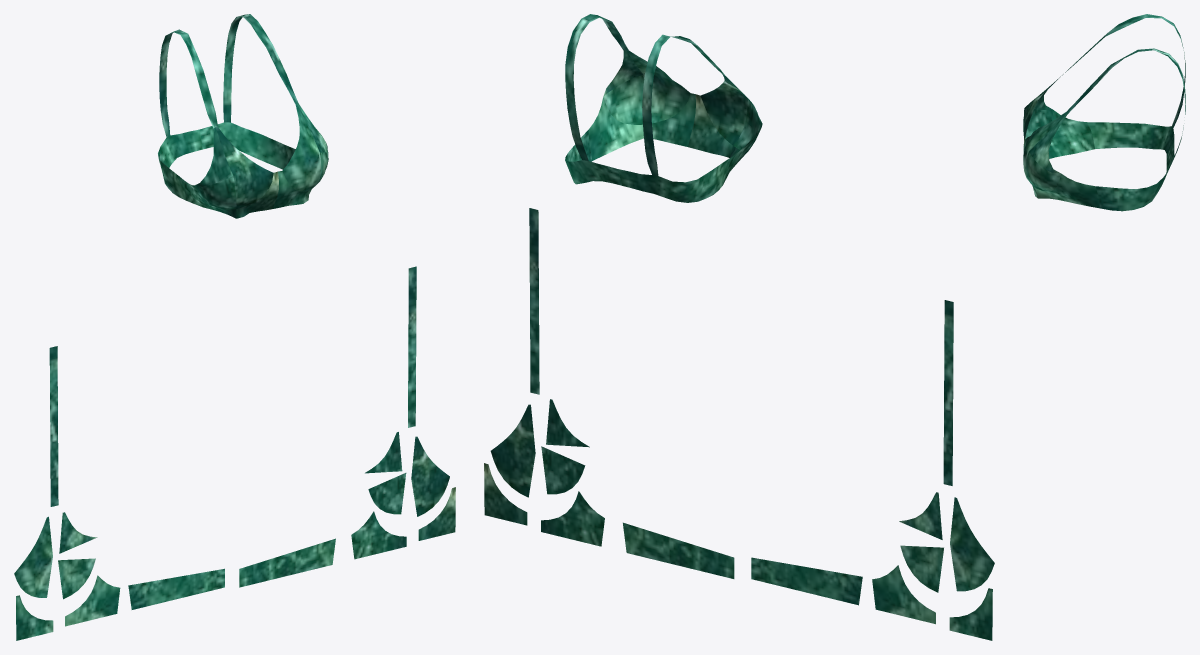
The model's file is brassier02LosDos.obj.
3 views of the same model, side by side, from view 1: azimuth 30°, elevation 25°; view 2: azimuth 150°, elevation 25°; view 3: azimuth 270°, elevation 25° (orthographic). The views are drawn at different scales.
Visible parts, largest first — view 1: Pattern2D_212454, Pattern2D_212309, Pattern2D_212309.001, Pattern2D_212453.001, Pattern2D_183690.001, Pattern2D_212453, Pattern2D_183690, Pattern2D_212455.001, Pattern2D_212448.001, Pattern2D_212454.001, Pattern2D_212451, Pattern2D_61598 (+12 smaller); view 2: Pattern2D_212454, Pattern2D_212309, Pattern2D_212453, Pattern2D_183690, Pattern2D_212454.001, Pattern2D_212453.001, Pattern2D_61598, Pattern2D_212451, Pattern2D_212455, Pattern2D_212448, Pattern2D_61598.001, Pattern2D_183690.001 (+12 smaller); view 3: Pattern2D_212454.001, Pattern2D_212309.001, Pattern2D_212451.001, Pattern2D_61598.001, Pattern2D_41568.001, Pattern2D_15169.001, Pattern2D_212448.001, Pattern2D_212455.001, Pattern2D_183690.001, Pattern2D_212450.001, Pattern2D_212453.001.
Boxes of the visible parts, left/top/right/bottom form: Pattern2D_212454: left=239, top=538, right=335, bottom=587; Pattern2D_212309: left=128, top=568, right=224, bottom=609; Pattern2D_212309.001: left=199, top=122, right=295, bottom=169; Pattern2D_212453.001: left=215, top=127, right=273, bottom=209; Pattern2D_183690.001: left=282, top=103, right=320, bottom=191; Pattern2D_212453: left=411, top=436, right=449, bottom=516; Pattern2D_183690: left=14, top=516, right=52, bottom=597; Pattern2D_212455.001: left=223, top=14, right=298, bottom=122; Pattern2D_212448.001: left=159, top=29, right=217, bottom=137; Pattern2D_212454.001: left=158, top=129, right=202, bottom=200; Pattern2D_212451: left=351, top=511, right=406, bottom=559; Pattern2D_61598: left=65, top=575, right=120, bottom=626; Pattern2D_212454: left=623, top=522, right=734, bottom=578; Pattern2D_212309: left=751, top=557, right=862, bottom=605; Pattern2D_212453: left=490, top=404, right=535, bottom=497; Pattern2D_183690: left=950, top=497, right=994, bottom=591; Pattern2D_212454.001: left=617, top=156, right=732, bottom=202; Pattern2D_212453.001: left=700, top=74, right=747, bottom=145; Pattern2D_61598: left=872, top=565, right=935, bottom=624; Pattern2D_212451: left=541, top=491, right=604, bottom=546; Pattern2D_212455: left=943, top=300, right=953, bottom=485; Pattern2D_212448: left=529, top=208, right=539, bottom=394; Pattern2D_61598.001: left=588, top=97, right=643, bottom=160; Pattern2D_183690.001: left=626, top=50, right=690, bottom=123; Pattern2D_212454.001: left=1088, top=122, right=1174, bottom=161; Pattern2D_212309.001: left=1095, top=145, right=1174, bottom=211; Pattern2D_212451.001: left=1048, top=110, right=1094, bottom=158; Pattern2D_61598.001: left=1036, top=173, right=1099, bottom=208; Pattern2D_41568.001: left=1026, top=152, right=1060, bottom=191; Pattern2D_15169.001: left=1028, top=113, right=1067, bottom=173; Pattern2D_212448.001: left=1065, top=14, right=1185, bottom=127; Pattern2D_212455.001: left=1066, top=48, right=1185, bottom=159; Pattern2D_183690.001: left=1023, top=112, right=1067, bottom=181; Pattern2D_212450.001: left=1025, top=109, right=1053, bottom=138; Pattern2D_212453.001: left=1023, top=74, right=1063, bottom=140.
Bounding box in the file's own units: 10.32 × 11.43 × 3.23.
Materials: 2 (2 with a texture image).
